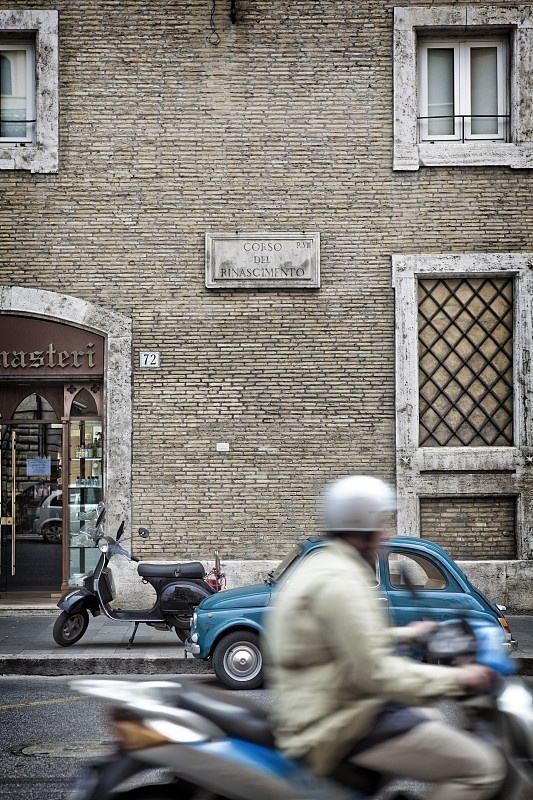non-vehicle: (61, 660, 518, 800), (53, 522, 237, 646)
